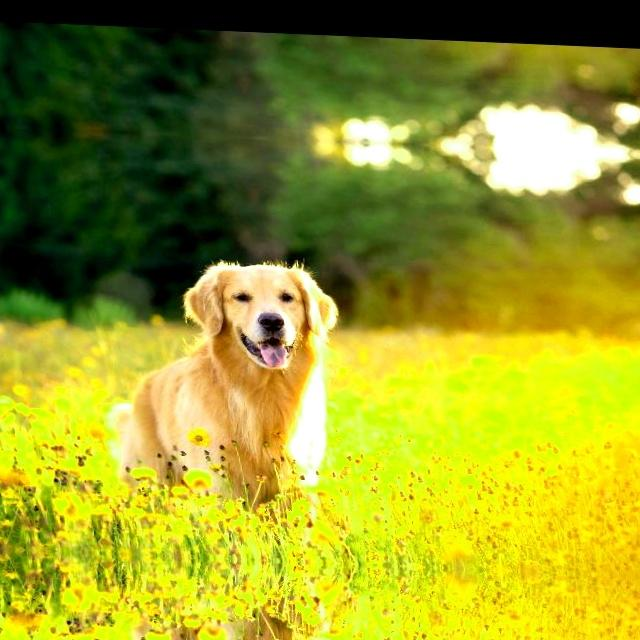dog: (76, 237, 358, 503), (112, 613, 374, 640)
